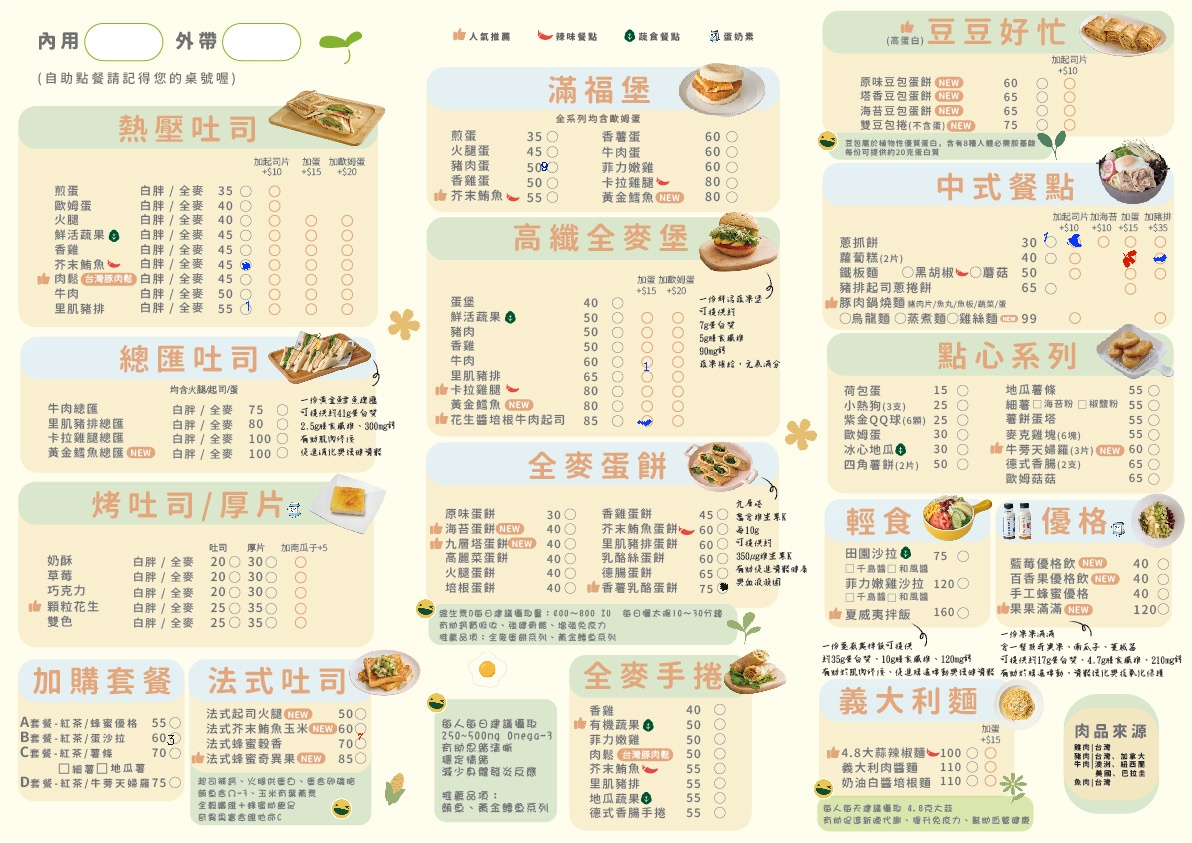marked_circle: (718, 582, 728, 593), (239, 260, 249, 271)
marked_number_1: (641, 357, 651, 368), (1045, 236, 1055, 247), (240, 303, 250, 314)
marked_number_3: (168, 733, 178, 744)
marked_number_7: (355, 738, 365, 749)
marked_number_9: (546, 161, 556, 172)
marked_tick: (1154, 253, 1164, 264), (641, 416, 651, 427)
marked_x: (1125, 253, 1135, 264), (1069, 236, 1079, 247)
